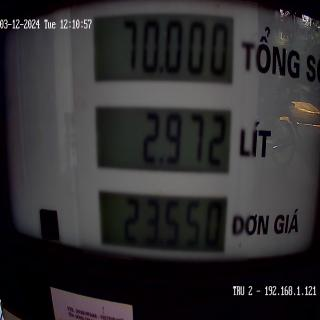screen: (88, 0, 240, 275)
